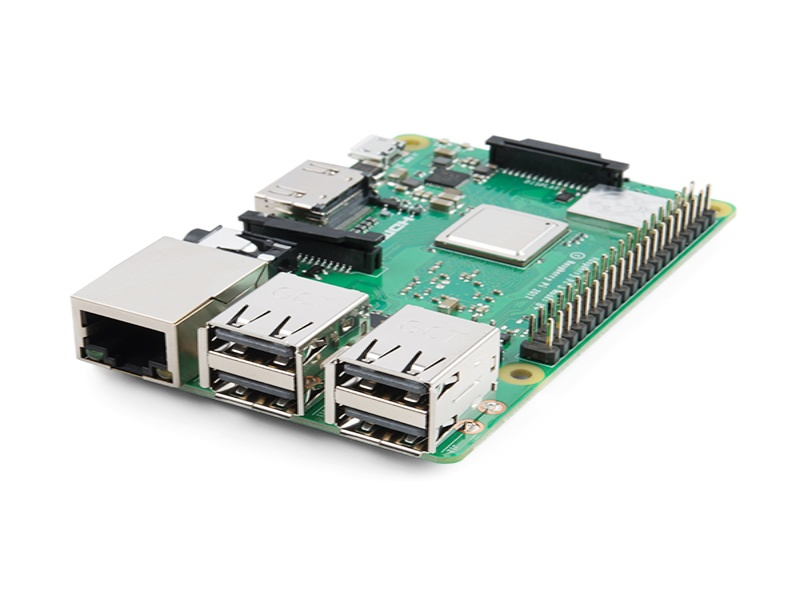raspberrypi: (101, 99, 707, 485)
